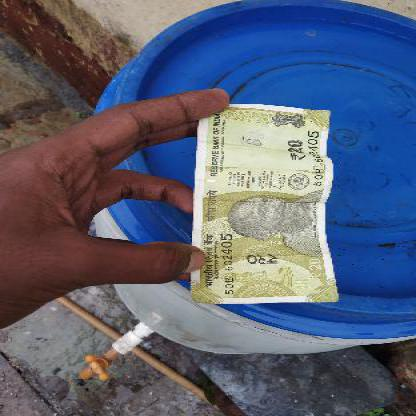New20Front: (197, 108, 324, 302)
